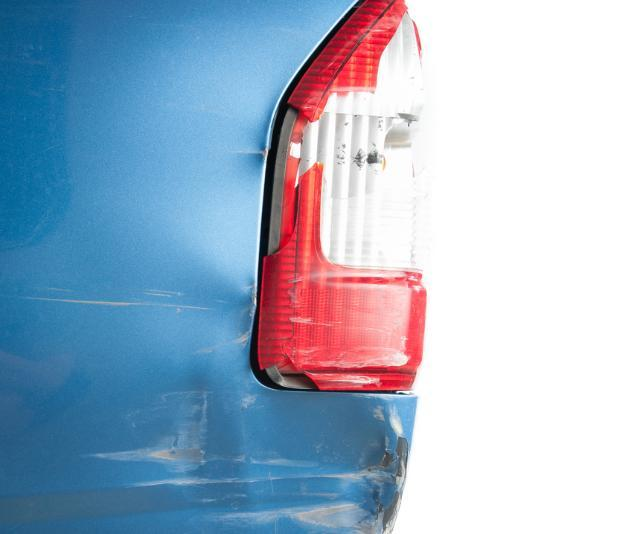Bumper: (22, 386, 416, 534)
Light: (262, 0, 489, 381)
